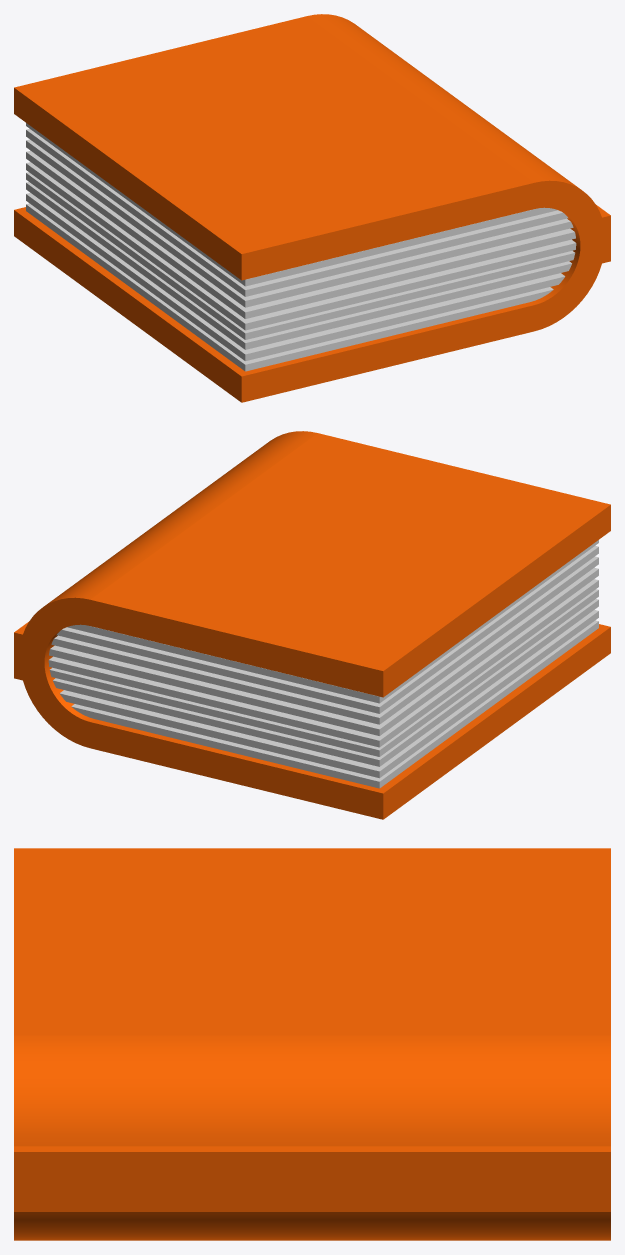
File: Book.fbx
3 renders of one model, top to bottom at view 1: azimuth 30°, elevation 25°; view 2: azimuth 150°, elevation 25°; view 3: azimuth 270°, elevation 25°, orthographic. The views are drawn at different scales.
Parts seen in each view (by area): view 1: pCube12; view 2: pCube12; view 3: pCube12.
Boxes of the visible parts, x1=… form: pCube12: x1=14, y1=14, x2=610, y2=402; pCube12: x1=14, y1=431, x2=610, y2=819; pCube12: x1=14, y1=848, x2=610, y2=1240.
Bounding box in the file's own units: 0.9265 × 0.3562 × 0.9892.
